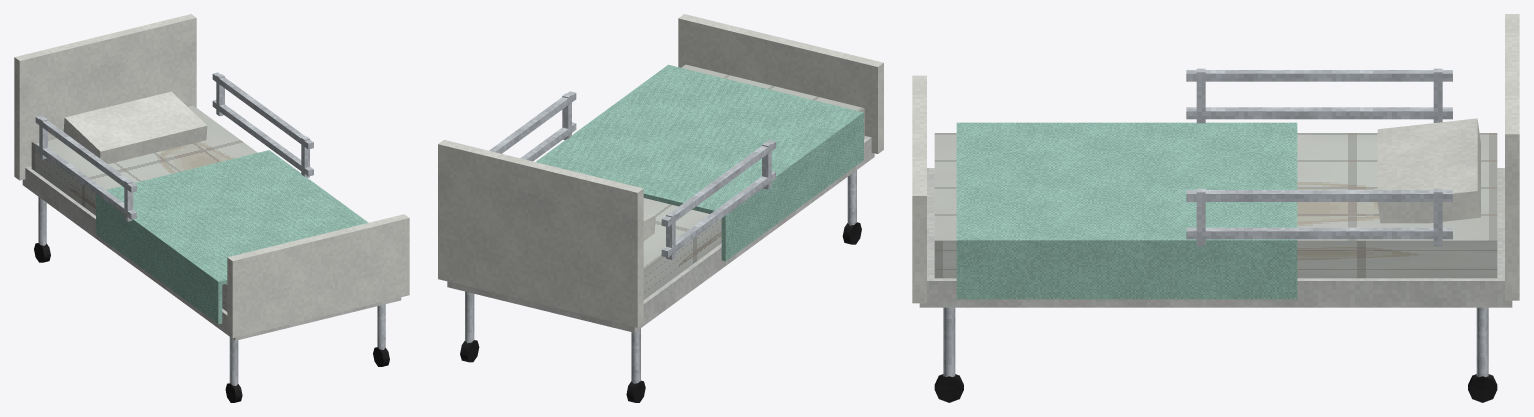
Rendered from tfg_hospital_bed.glb.
3 renders of one model, left to right at view 1: azimuth 30°, elevation 25°; view 2: azimuth 150°, elevation 25°; view 3: azimuth 270°, elevation 25°, orthographic. The views are drawn at different scales.
Visible parts, largest first — view 1: tfg_hospital_bed; view 2: tfg_hospital_bed; view 3: tfg_hospital_bed.
Boxes of the visible parts, left/top/right/bottom form: tfg_hospital_bed: left=14, top=14, right=409, bottom=402; tfg_hospital_bed: left=438, top=14, right=883, bottom=402; tfg_hospital_bed: left=912, top=14, right=1519, bottom=402.
Size of the model in its own units: 0.99 by 1.03 by 2.05.
Materials: 6 (6 with a texture image).
